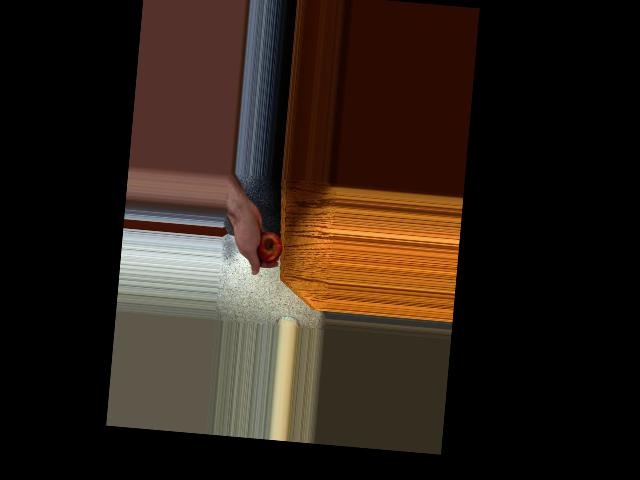apple: (251, 223, 285, 265)
